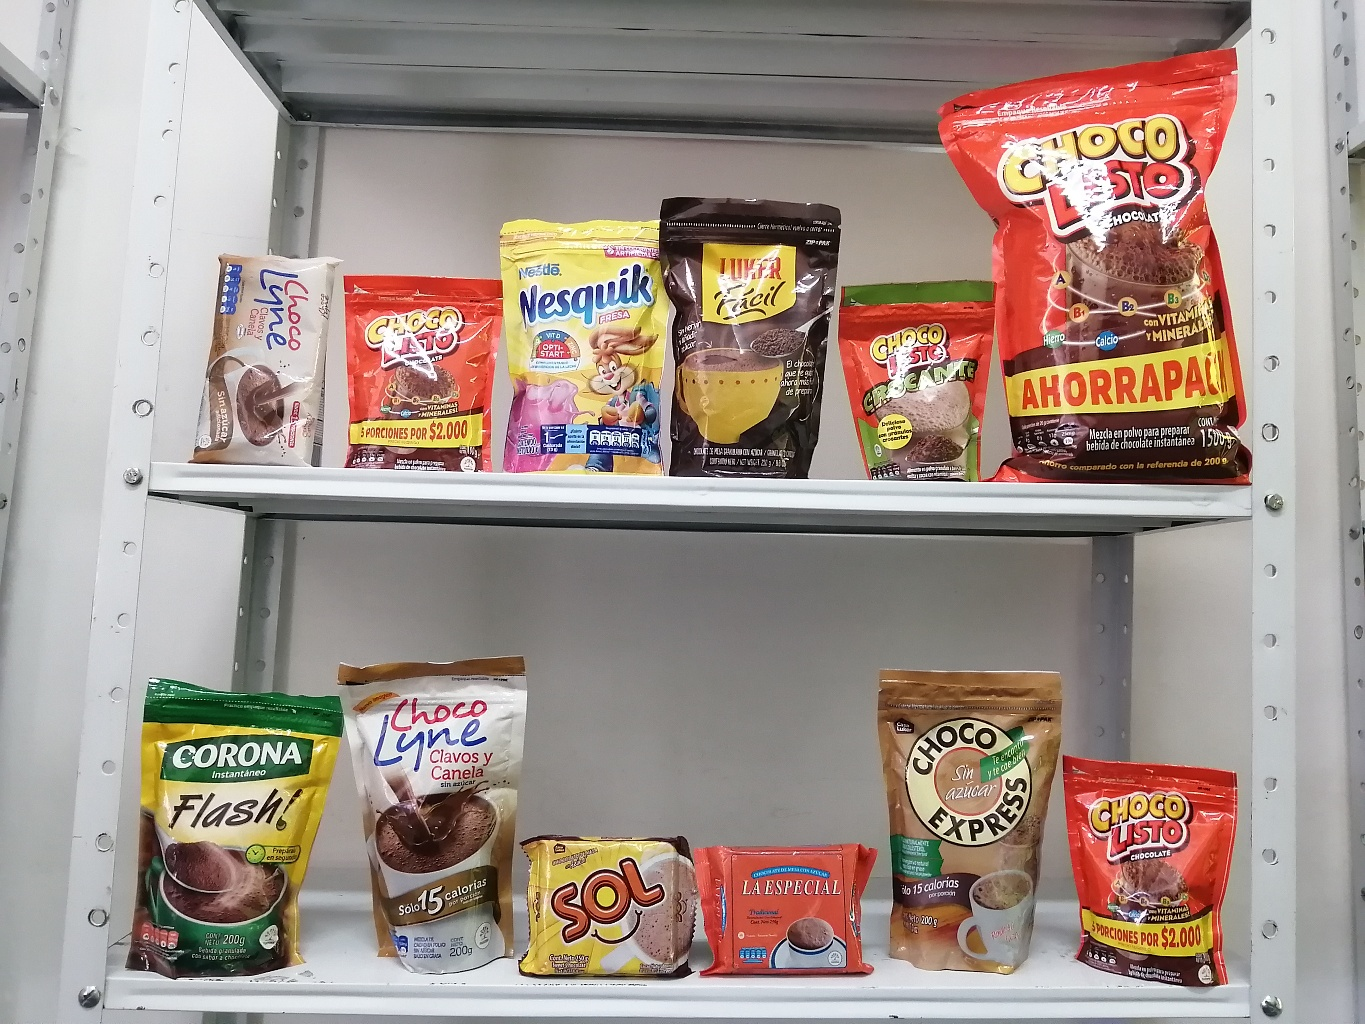COL0170102DYP10000: (826, 260, 1016, 487)
COL0170103DYP1,500: (920, 19, 1272, 499)
COL0170305DYP20000: (477, 205, 693, 487)
